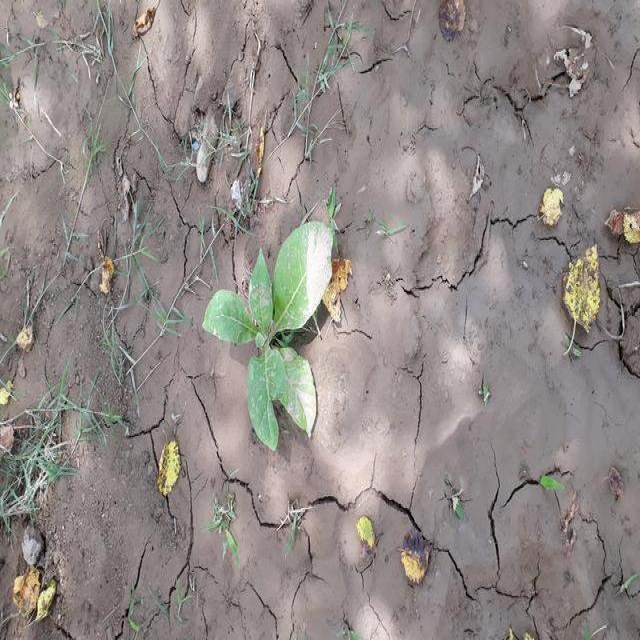crop: (198, 212, 340, 455)
